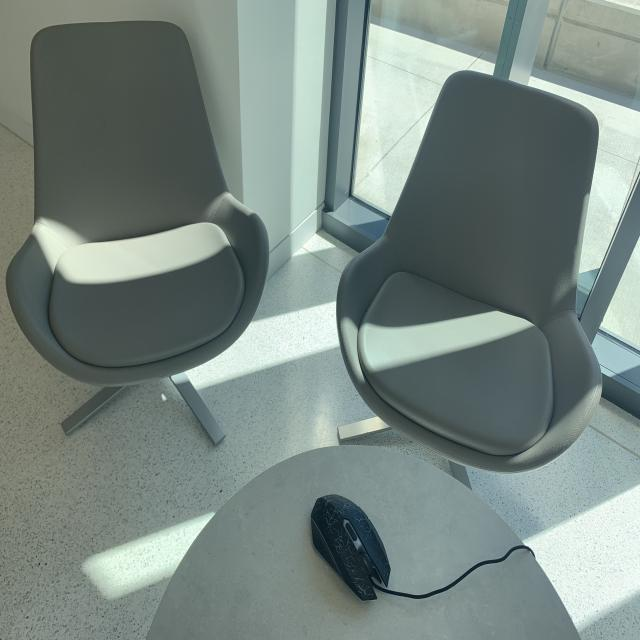Mouse: (304, 489, 398, 613)
